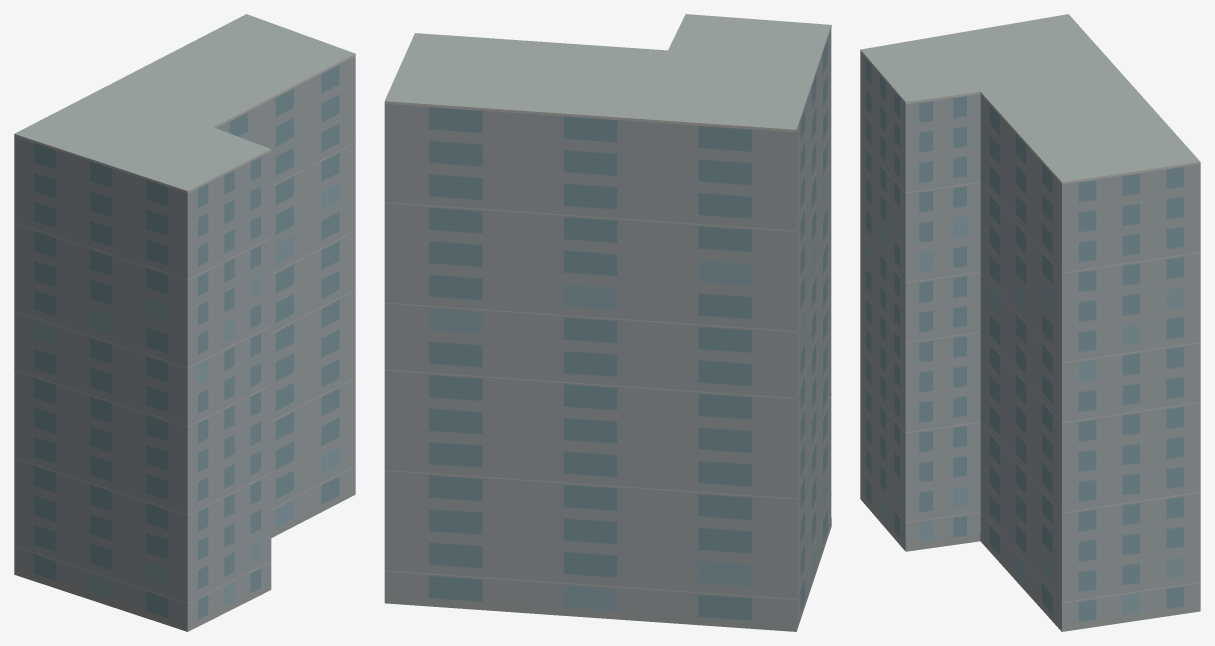
The model's file is residential-458652e1-a8fa-4b43-92b3-4ad8a03bf7c9.glb.
3 views of the same model, side by side, from view 1: azimuth 30°, elevation 25°; view 2: azimuth 150°, elevation 25°; view 3: azimuth 270°, elevation 25° (orthographic). The views are drawn at different scales.
Visible parts, largest first — view 1: residential-458652e1-a8fa-4b43-92b3-4ad8a03bf7c9.tmp; view 2: residential-458652e1-a8fa-4b43-92b3-4ad8a03bf7c9.tmp; view 3: residential-458652e1-a8fa-4b43-92b3-4ad8a03bf7c9.tmp.
Boxes of the visible parts, x1,y1,x2,y2 form: residential-458652e1-a8fa-4b43-92b3-4ad8a03bf7c9.tmp: (14, 14, 355, 631); residential-458652e1-a8fa-4b43-92b3-4ad8a03bf7c9.tmp: (384, 14, 831, 631); residential-458652e1-a8fa-4b43-92b3-4ad8a03bf7c9.tmp: (860, 14, 1200, 631).
Bounding box in the file's own units: 37.77 × 47 × 32.25.
